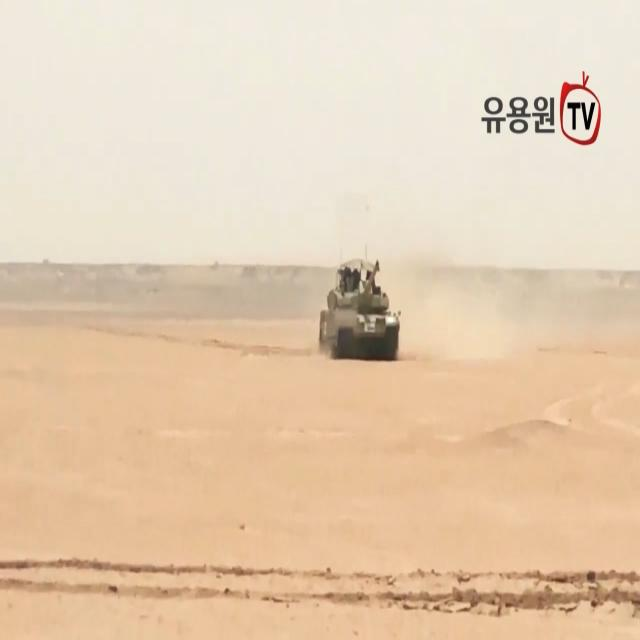korea tank: (316, 256, 402, 364)
